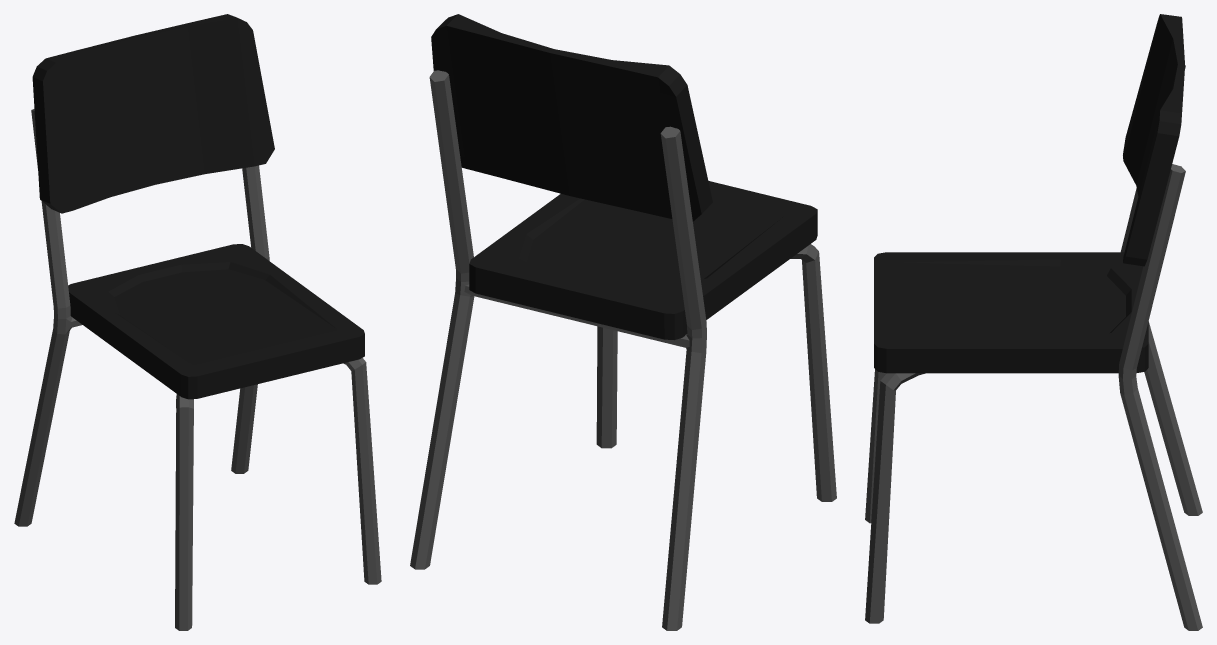
File: Int_Chair01_2.fbx
The picture shows the model from 3 angles, left to right: view 1: azimuth 30°, elevation 25°; view 2: azimuth 150°, elevation 25°; view 3: azimuth 270°, elevation 25°; orthographic projection. The views are drawn at different scales.
Parts seen in each view (by area): view 1: Int_Chair01_2; view 2: Int_Chair01_2; view 3: Int_Chair01_2.
Boxes of the visible parts, bbox=[...] form: Int_Chair01_2: bbox=[14, 14, 381, 630]; Int_Chair01_2: bbox=[410, 14, 836, 630]; Int_Chair01_2: bbox=[865, 14, 1202, 630].
Size of what is drawn, in the model's own units: 58.56 by 68.7 by 114.
